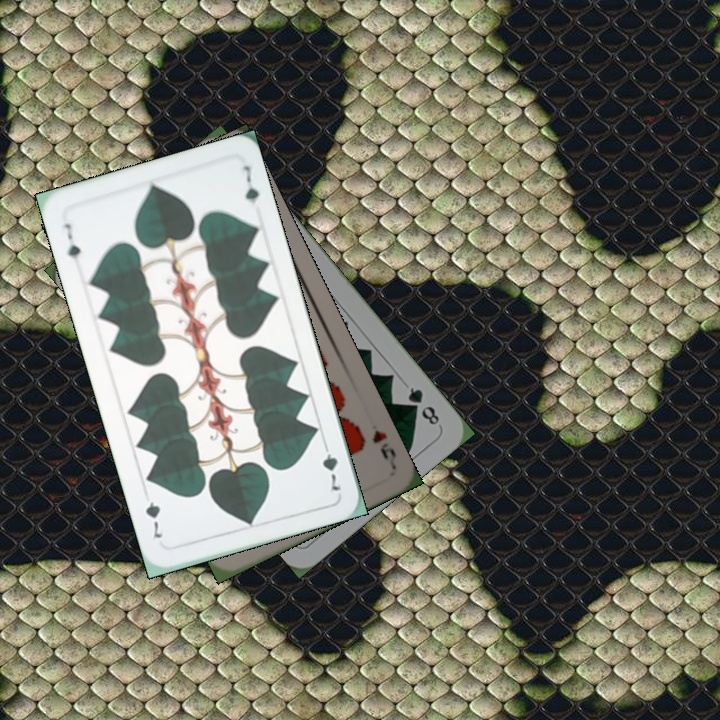G7: (318, 437, 344, 497), (60, 219, 84, 270)
G8: (404, 383, 442, 428)
H9: (368, 426, 399, 469)
